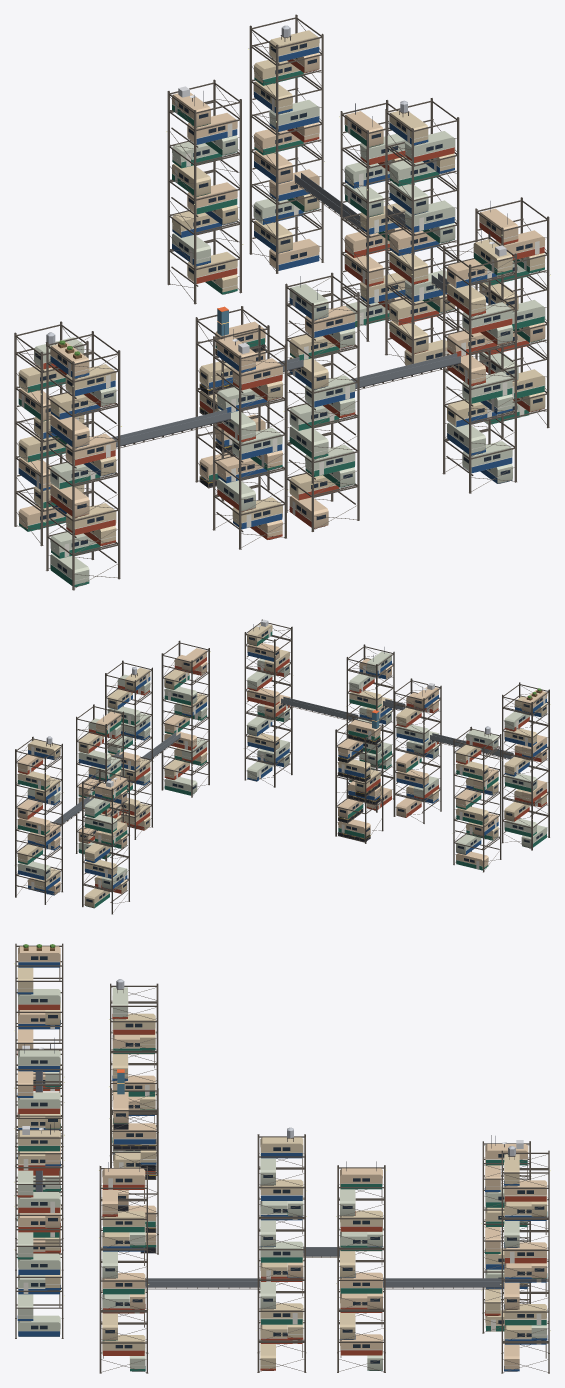
3 renders of one model, top to bottom at view 1: azimuth 30°, elevation 25°; view 2: azimuth 150°, elevation 25°; view 3: azimuth 270°, elevation 25°, orthographic. The views are drawn at different scales.
Parts seen in each view (by area): view 1: vertical_towers_b.lod1; view 2: vertical_towers_b.lod1; view 3: vertical_towers_b.lod1.
Part boxes in pixels (x1=…): vertical_towers_b.lod1: x1=14, y1=14, x2=550, y2=590; vertical_towers_b.lod1: x1=14, y1=619, x2=550, y2=914; vertical_towers_b.lod1: x1=14, y1=943, x2=550, y2=1373.
Bounding box in the file's own units: 85.57 × 40.01 × 85.02.
